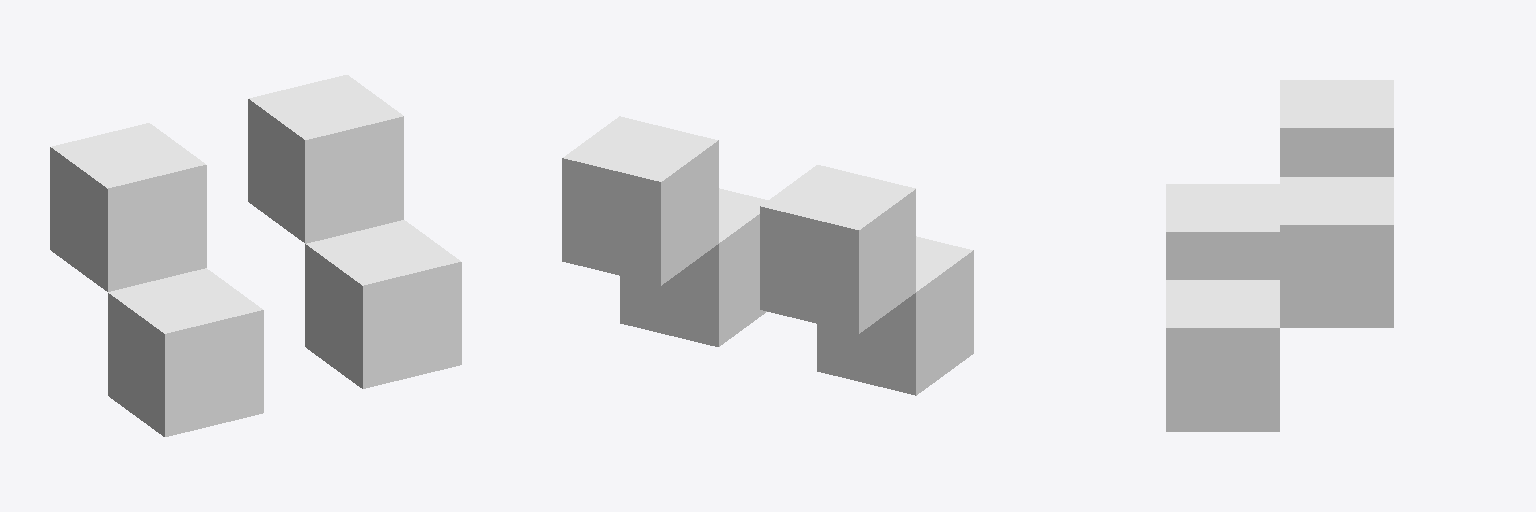
The model's file is parrot-1.obj.
3 renders of one model, left to right at view 1: azimuth 30°, elevation 25°; view 2: azimuth 150°, elevation 25°; view 3: azimuth 270°, elevation 25°, orthographic.
Visible parts, largest first — view 1: object 1; view 2: object 1; view 3: object 1.
Part boxes in pixels (x1,y1,x2,y2): object 1: (50, 75, 461, 436); object 1: (562, 116, 973, 395); object 1: (1166, 80, 1393, 431).
Bounding box in the file's own units: 0.3 × 0.2 × 0.2.